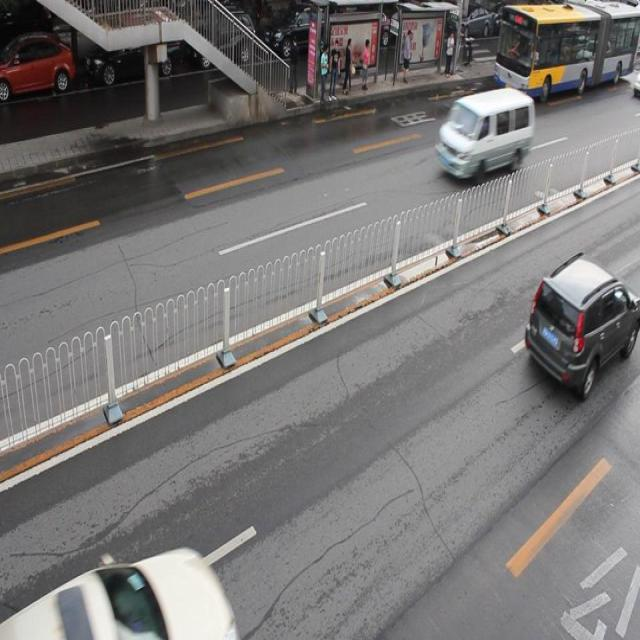car: (0, 546, 238, 640), (524, 253, 640, 394), (85, 27, 180, 88), (1, 35, 76, 102), (186, 8, 256, 68), (262, 1, 331, 59)
truck: (436, 87, 534, 178)
van: (494, 1, 640, 99)
